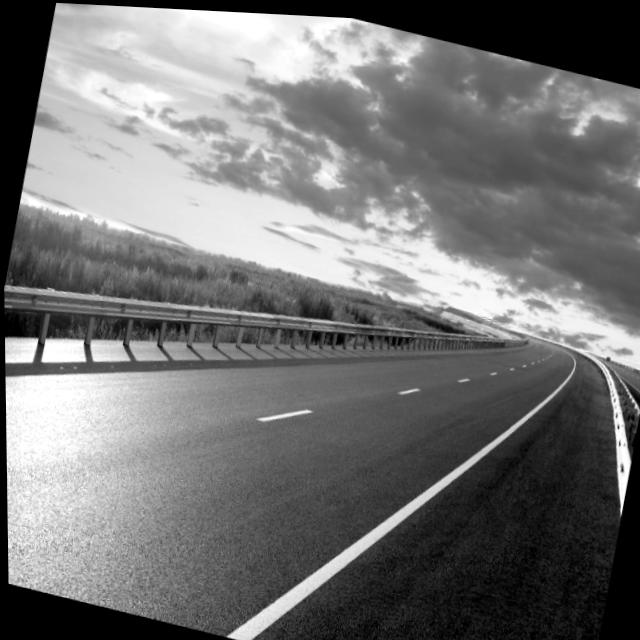cleat: (3, 120, 640, 640)
